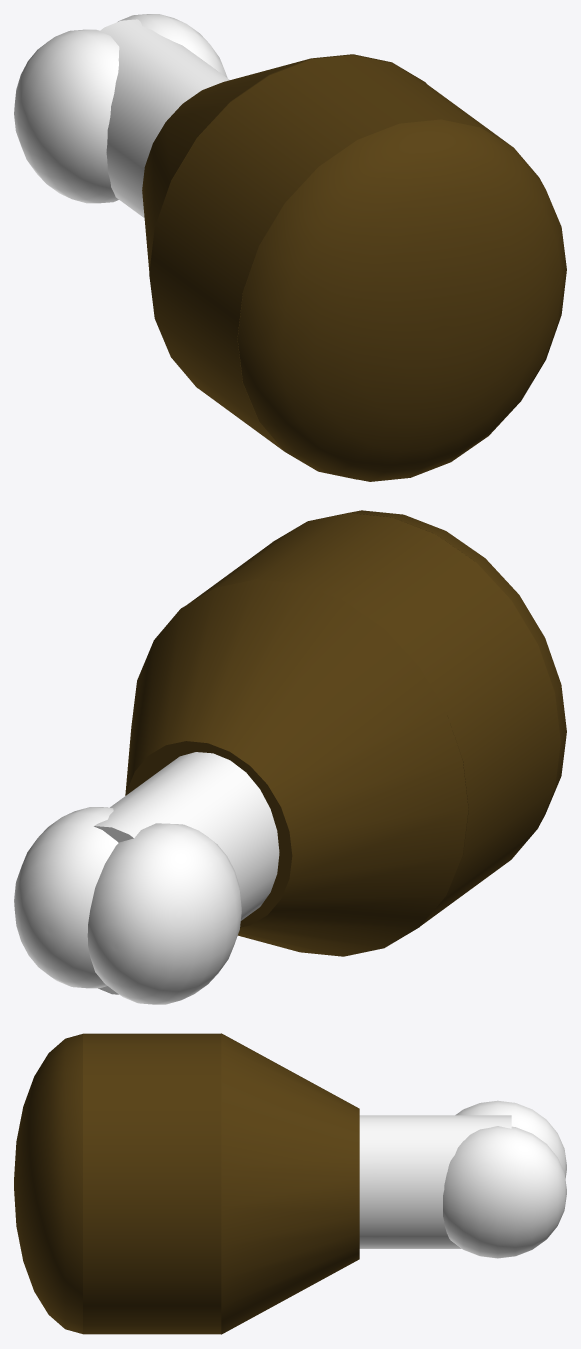
File: turkeyleg.fbx
The picture shows the model from 3 angles, top to bottom: view 1: azimuth 30°, elevation 25°; view 2: azimuth 150°, elevation 25°; view 3: azimuth 270°, elevation 25°; orthographic projection. The views are drawn at different scales.
Parts seen in each view (by area): view 1: sphere_half, cylinder (×2), sphere (×2), cylinder_taper%; view 2: cylinder_taper%, cylinder (×2), sphere (×2), sphere_half; view 3: cylinder (×2), cylinder_taper%, sphere_half, sphere (×2).
Part boxes in pixels (left/top/right/bottom): sphere_half: left=237, top=119, right=566, bottom=481; cylinder (×2): left=100, top=19, right=510, bottom=479; sphere (×2): left=14, top=14, right=227, bottom=203; cylinder_taper%: left=142, top=54, right=426, bottom=386; cylinder_taper%: left=125, top=579, right=468, bottom=956; cylinder (×2): left=94, top=513, right=560, bottom=994; sphere (×2): left=14, top=807, right=241, bottom=1004; sphere_half: left=274, top=510, right=566, bottom=823; cylinder (×2): left=83, top=1033, right=511, bottom=1334; cylinder_taper%: left=221, top=1033, right=359, bottom=1334; sphere_half: left=14, top=1034, right=82, bottom=1333; sphere (×2): left=443, top=1100, right=566, bottom=1258.
Bounding box in the file's own units: 2.54 × 2.65 × 4.8.
